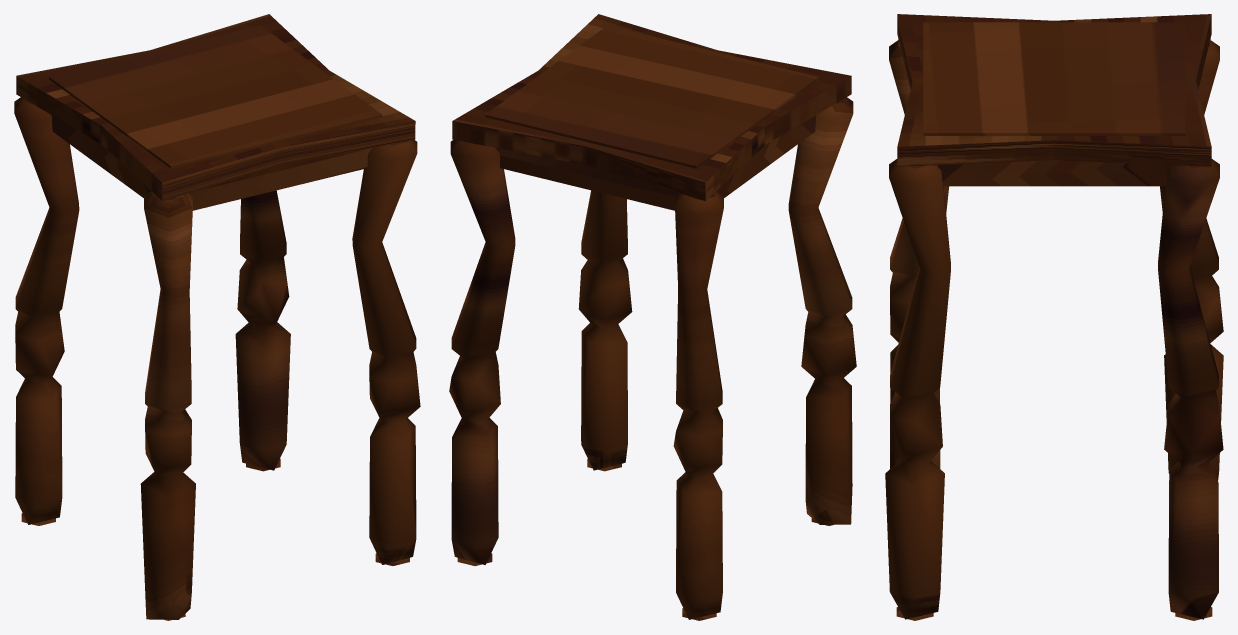
File: TableHigh.fbx
The picture shows the model from 3 angles, left to right: view 1: azimuth 30°, elevation 25°; view 2: azimuth 150°, elevation 25°; view 3: azimuth 270°, elevation 25°; orthographic projection. The views are drawn at different scales.
Parts seen in each view (by area): view 1: LongTable; view 2: LongTable; view 3: LongTable.
Part boxes in pixels (x1,y1,x2,y2): LongTable: (14, 14, 420, 620); LongTable: (449, 14, 856, 620); LongTable: (885, 14, 1223, 620).
Bounding box in the file's own units: 0.5603 × 0.864 × 0.5557.
